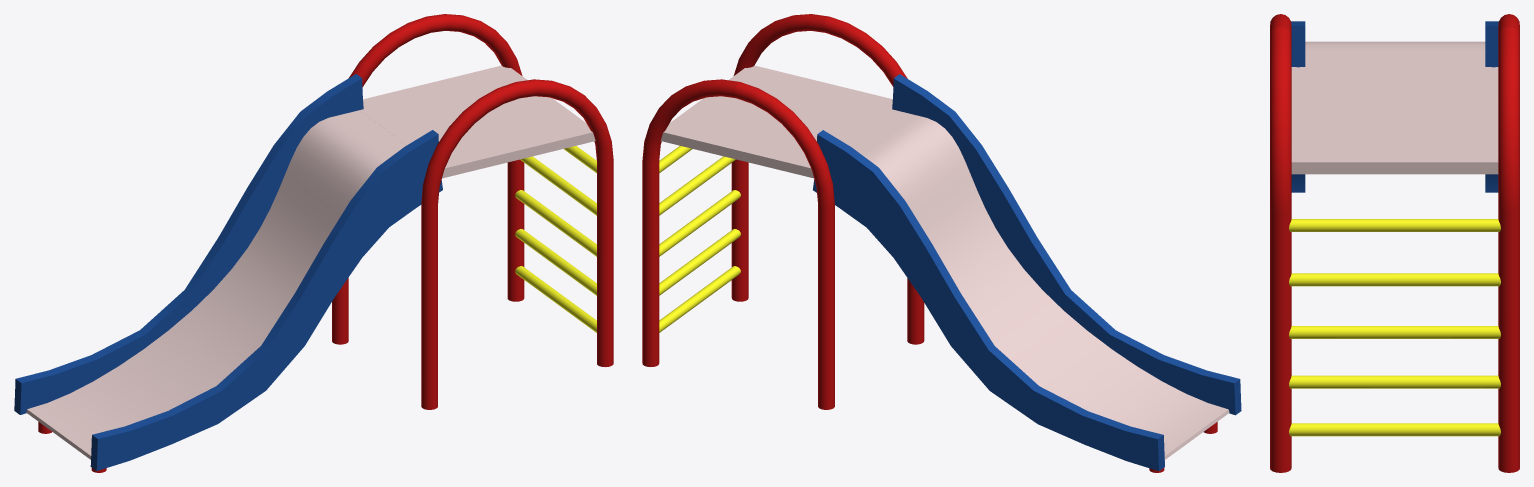
File: Slide.fbx
The picture shows the model from 3 angles, left to right: view 1: azimuth 30°, elevation 25°; view 2: azimuth 150°, elevation 25°; view 3: azimuth 270°, elevation 25°; orthographic projection. The views are drawn at different scales.
Visible parts, largest first — view 1: pCube2, pCube4, pCube1, pCube5, pCylinder4, pCylinder3, pCylinder5, pCylinder7, pCylinder6, pCylinder8; view 2: pCube2, pCube5, pCube1, pCube4, pCylinder3, pCylinder4, pCylinder5, pCylinder6, pCylinder7, pCylinder8; view 3: pCube1, pCylinder3, pCylinder4, pCube2, pCylinder8, pCylinder5, pCylinder6, pCylinder7, pCylinder9, pCube4, pCube5.
Part boxes in pixels (left/top/right/bottom): pCube2: left=26, top=110, right=406, bottom=459; pCube4: left=90, top=130, right=442, bottom=470; pCube1: left=359, top=65, right=595, bottom=178; pCube5: left=14, top=74, right=363, bottom=414; pCylinder4: left=421, top=79, right=613, bottom=409; pCylinder3: left=332, top=14, right=524, bottom=344; pCylinder5: left=515, top=266, right=596, bottom=332; pCylinder7: left=515, top=190, right=596, bottom=256; pCylinder6: left=515, top=229, right=596, bottom=295; pCylinder8: left=520, top=156, right=596, bottom=215; pCube2: left=849, top=110, right=1229, bottom=459; pCube5: left=813, top=130, right=1164, bottom=470; pCube1: left=660, top=65, right=896, bottom=178; pCube4: left=892, top=74, right=1241, bottom=415; pCylinder3: left=642, top=79, right=834, bottom=409; pCylinder4: left=731, top=14, right=924, bottom=344; pCylinder5: left=659, top=266, right=740, bottom=332; pCylinder6: left=659, top=229, right=740, bottom=295; pCylinder7: left=659, top=190, right=740, bottom=256; pCylinder8: left=659, top=156, right=735, bottom=215; pCube1: left=1291, top=64, right=1498, bottom=174; pCylinder3: left=1498, top=14, right=1519, bottom=472; pCylinder4: left=1270, top=14, right=1291, bottom=472; pCube2: left=1305, top=41, right=1485, bottom=63; pCylinder8: left=1289, top=273, right=1500, bottom=286; pCylinder5: left=1289, top=423, right=1500, bottom=436; pCylinder6: left=1289, top=375, right=1500, bottom=388; pCylinder7: left=1289, top=326, right=1500, bottom=338; pCylinder9: left=1289, top=219, right=1500, bottom=231; pCube4: left=1291, top=21, right=1305, bottom=192; pCube5: left=1485, top=21, right=1498, bottom=192.
Size of the model in its own units: 9.2 by 5.2 by 3.04.
